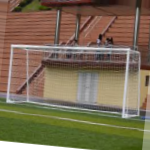goals: (4, 42, 144, 119)
